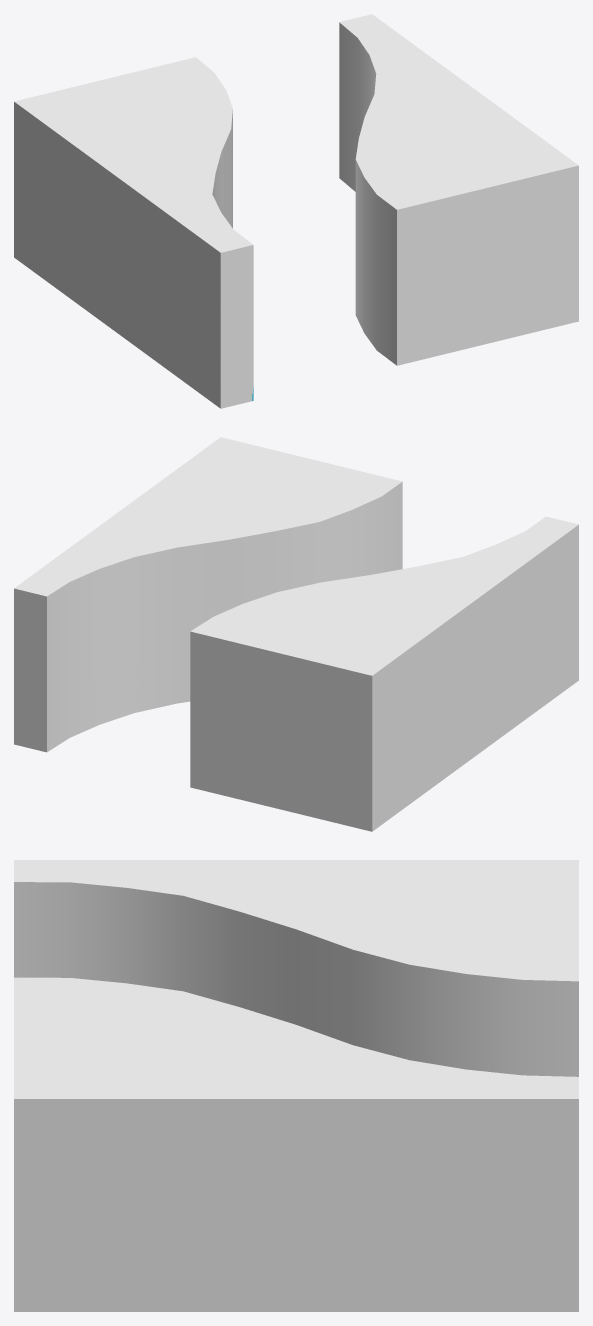
The model's file is invisiblewall4.fbx.
3 renders of one model, top to bottom at view 1: azimuth 30°, elevation 25°; view 2: azimuth 150°, elevation 25°; view 3: azimuth 270°, elevation 25°, orthographic. The views are drawn at different scales.
Parts seen in each view (by area): view 1: pCube1; view 2: pCube1; view 3: pCube1.
Boxes of the visible parts, <box> form: pCube1: <box>14,14,578,408</box>; pCube1: <box>14,437,578,831</box>; pCube1: <box>14,860,578,1311</box>.
Size of the model in its own units: 24.03 by 10 by 24.03.
